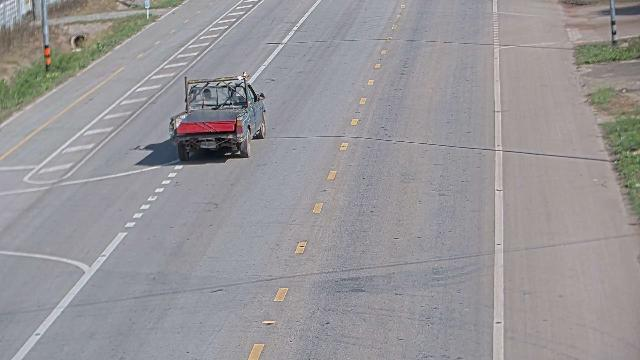pickup-truck: (168, 72, 267, 161)
